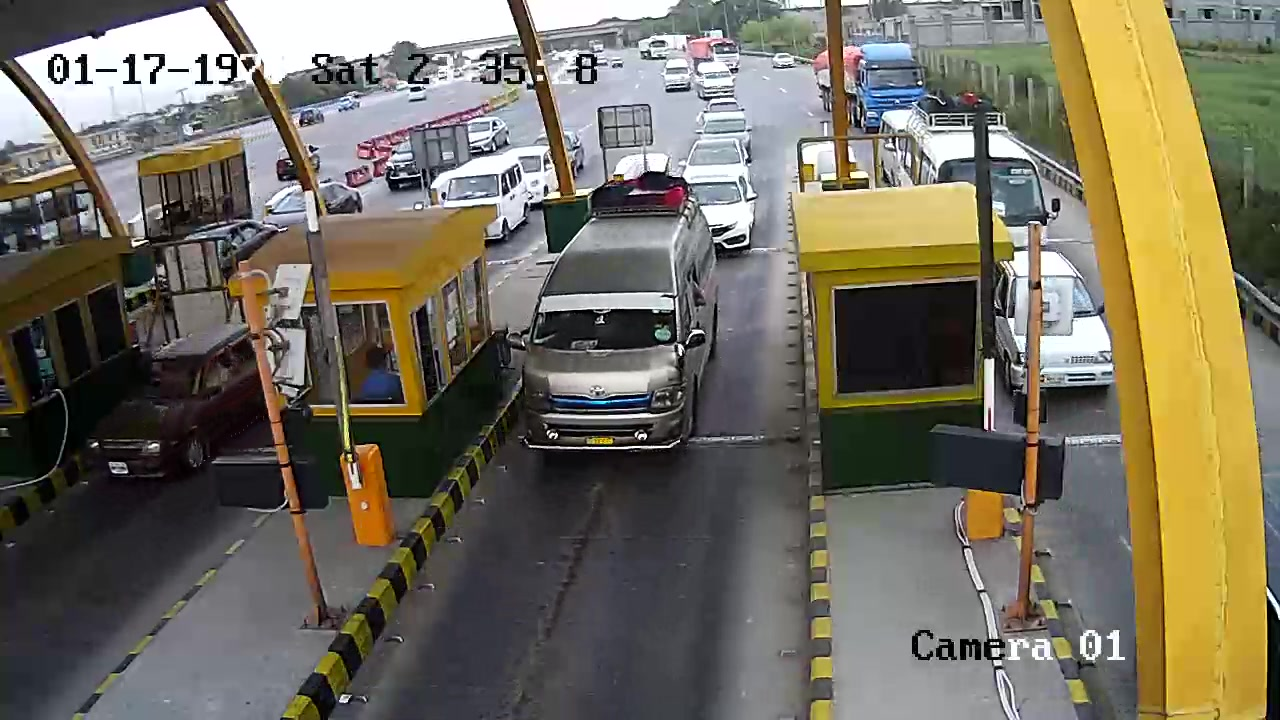F2: (510, 173, 732, 467)
